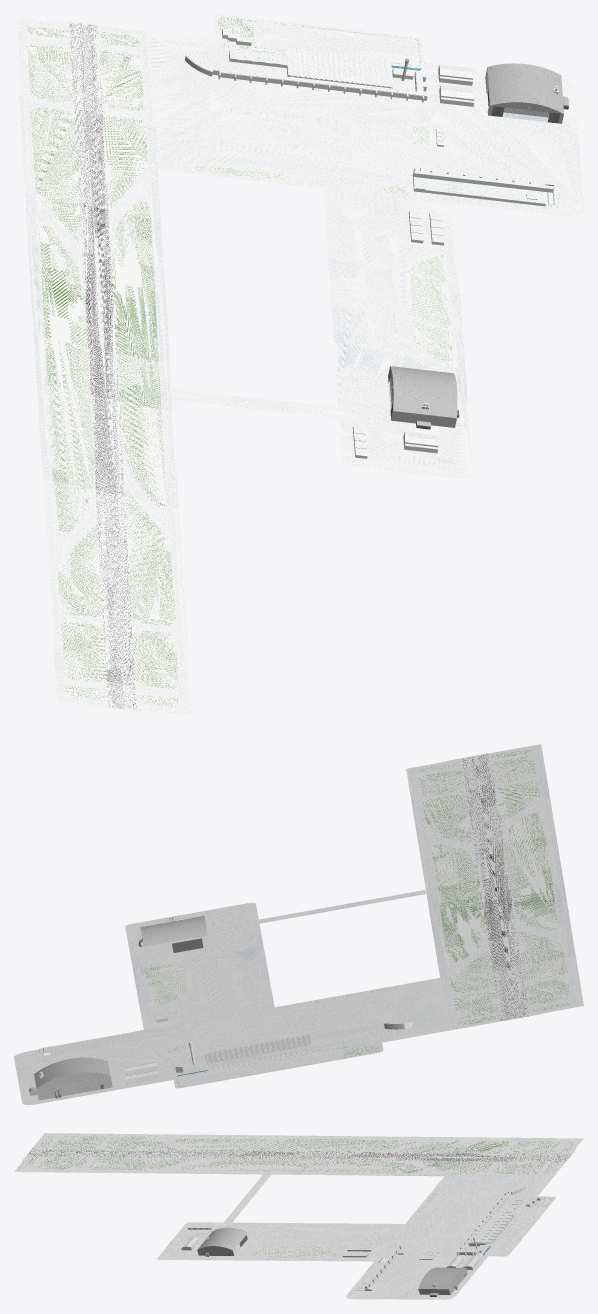
File: VHHX-compressed.glb
The picture shows the model from 3 angles, top to bottom: view 1: azimuth 30°, elevation 25°; view 2: azimuth 210°, elevation 25°; view 3: azimuth 270°, elevation 25°; orthographic projection. The views are drawn at different scales.
Visible parts, largest first — view 1: ID2066-6, ID2066-7, ID219-25001, ID219-25, ID219-13, ID219-13001, ID325-3, ID219-0001, ID219-0, ID2066-15, ID219-16, ID219-16001 (+27 smaller); view 2: ID2066-6, ID2066-7, ID325-3, ID219-25001, ID219-25, ID219-13, ID219-13001, ID219-0001, ID219-0, ID2066-15, ID219-14, ID219-16001 (+26 smaller); view 3: ID2066-6, ID2066-7, ID219-25001, ID219-25, ID219-13001, ID219-13, ID325-3, ID219-0001, ID219-0, ID2066-15, ID219-16001, ID219-16 (+28 smaller).
Part boxes in pixels (x1,y1,x2,y2): ID2066-6: (148,31,583,479); ID2066-7: (149,34,583,478); ID219-25001: (14,17,107,707); ID219-25: (97,25,191,715); ID219-13: (111,200,166,507); ID219-13001: (39,225,94,532); ID325-3: (164,14,427,102); ID219-0001: (69,22,123,709); ID219-0: (82,23,136,710); ID2066-15: (221,103,353,164); ID219-16: (124,491,175,625); ID219-16001: (30,107,81,241); ID2066-6: (14,890,449,1104); ID2066-7: (15,890,448,1104); ID325-3: (170,1022,433,1088); ID219-25001: (490,744,583,1016); ID219-25: (406,758,499,1030); ID219-13: (431,843,486,962); ID219-13001: (503,812,558,930); ID219-0001: (474,753,528,1018); ID219-0: (461,756,515,1021); ID2066-15: (245,1001,376,1040); ID219-14: (432,844,485,961); ID219-16001: (516,931,567,980); ID2066-6: (157,1174,552,1299); ID2066-7: (157,1176,550,1299); ID219-25001: (33,1133,583,1154); ID219-25: (14,1156,564,1177); ID219-13001: (175,1137,417,1151); ID219-13: (180,1159,422,1173); ID325-3: (456,1181,555,1256); ID219-0001: (29,1148,571,1157); ID219-0: (26,1152,568,1162); ID2066-15: (420,1196,485,1233); ID219-16001: (399,1140,510,1153); ID219-16: (87,1157,198,1170).
Bounding box in the file's own units: 1918 × 475 × 1957.
Materials: 40 (21 with a texture image).
